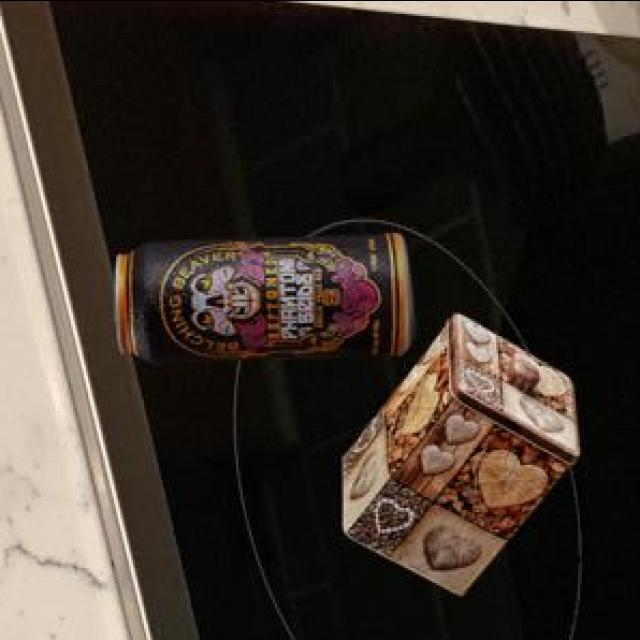logam: (347, 310, 583, 592), (119, 229, 418, 358)
